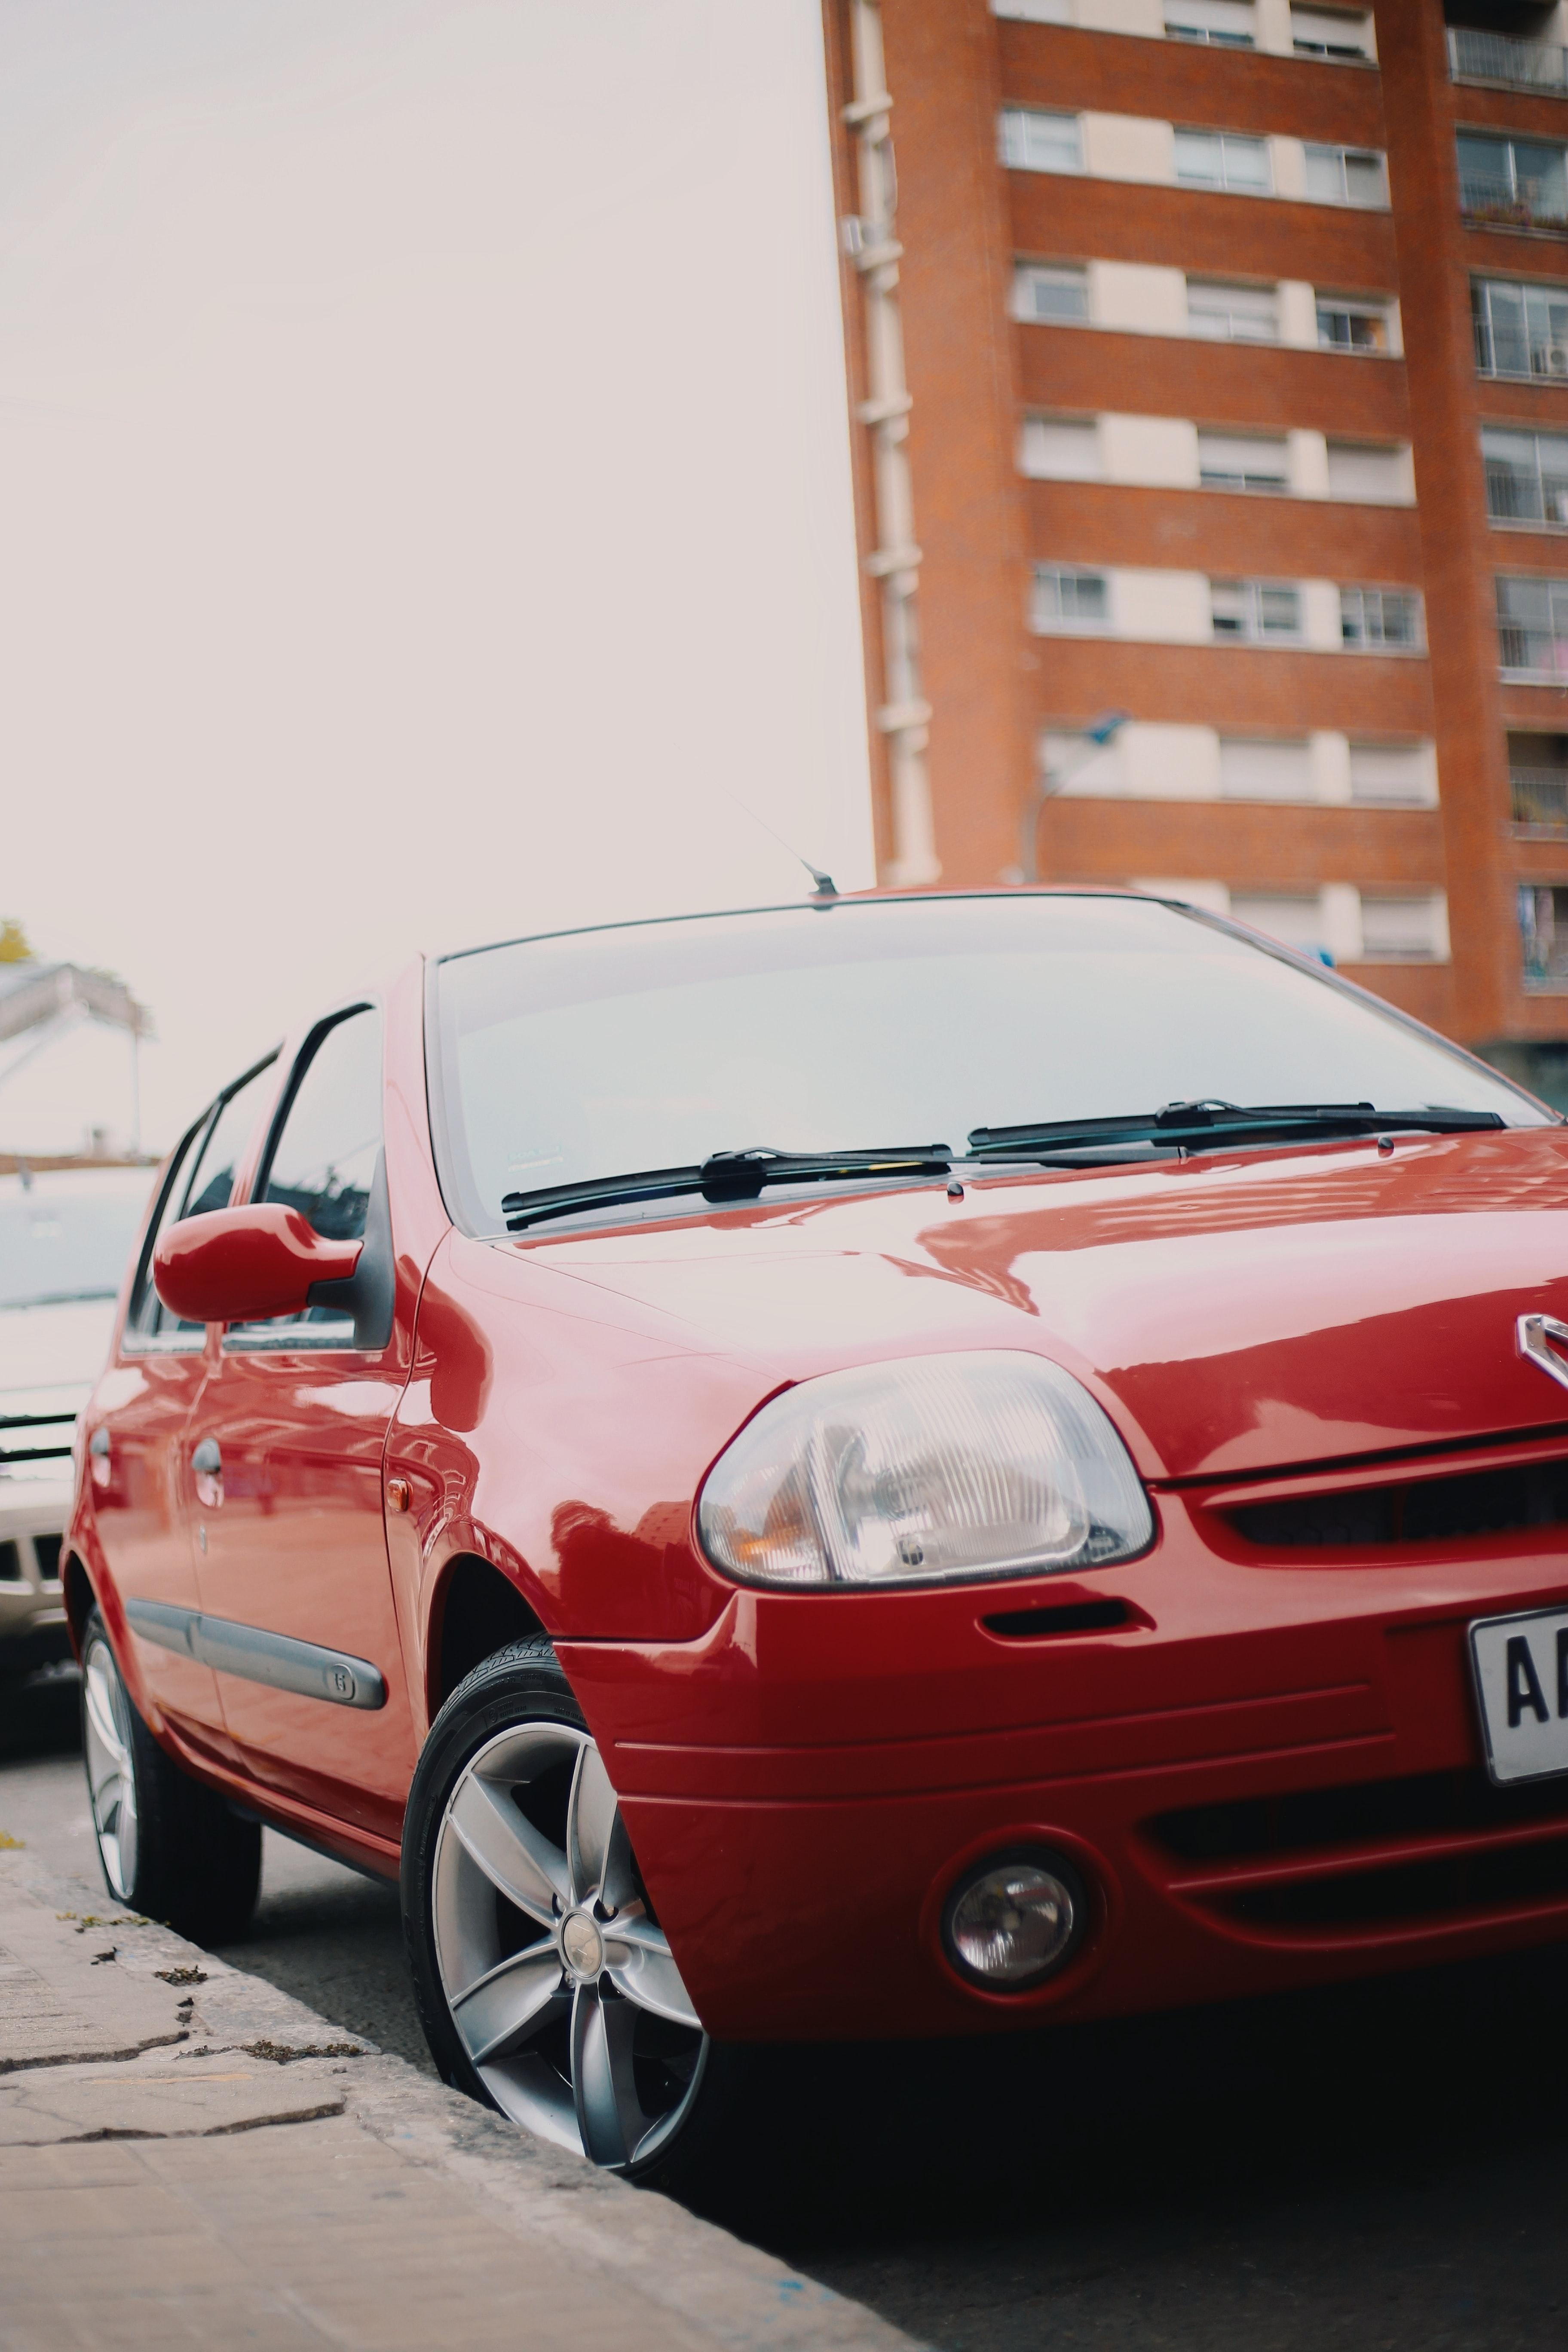Renault: (1487, 1260, 1568, 1412)
